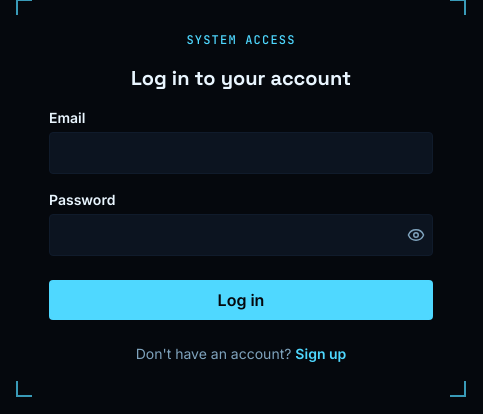
it: AuthForm › preserves typed values when switching modes
In the field labelled "Email": (241, 153) [49,132,433,174], type "jane@example.com"
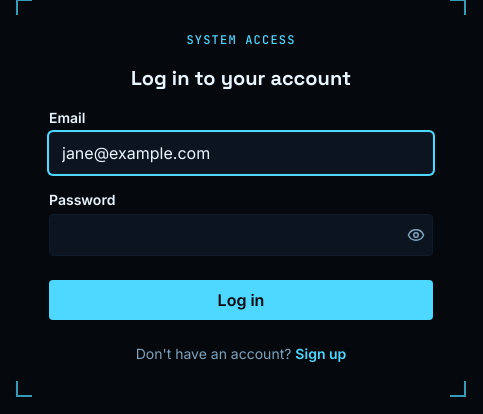
In the password field labelled "Password": (241, 235) [49,214,433,256], type "hunter2"
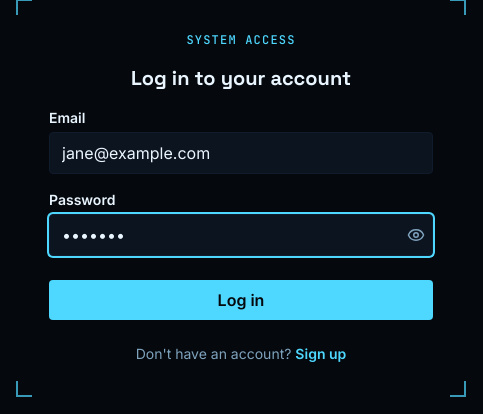
Click the button with aria-label "switch to sign up mode": (321, 354) [295,344,346,364]
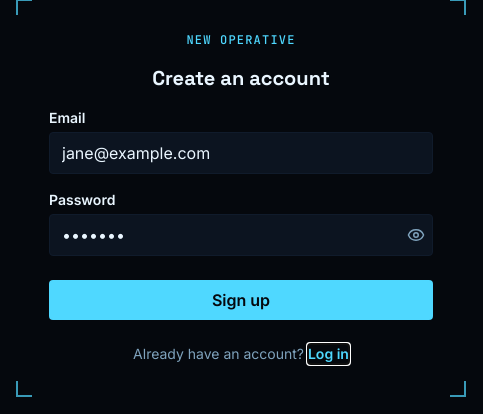
Result: the heading "Create an account" is shown at [152,65,330,91]
